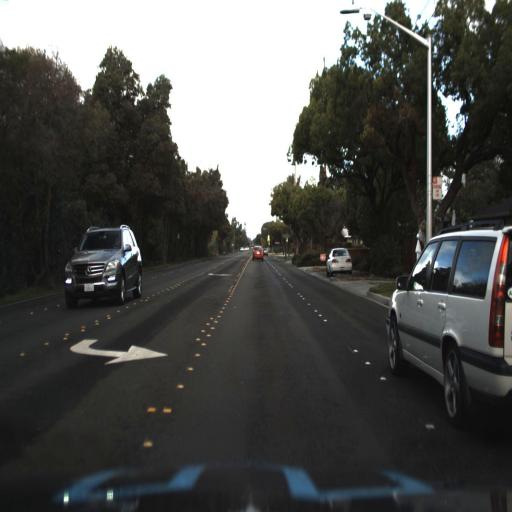car: (380, 200, 512, 437), (62, 222, 143, 310), (324, 240, 357, 280), (249, 238, 266, 263)
